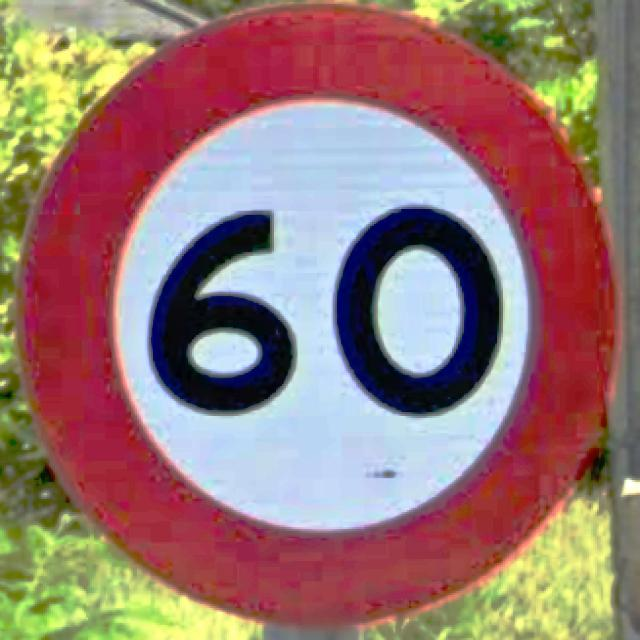max60: (12, 0, 624, 627)
